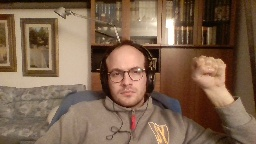Pugno: (188, 53, 227, 89)
